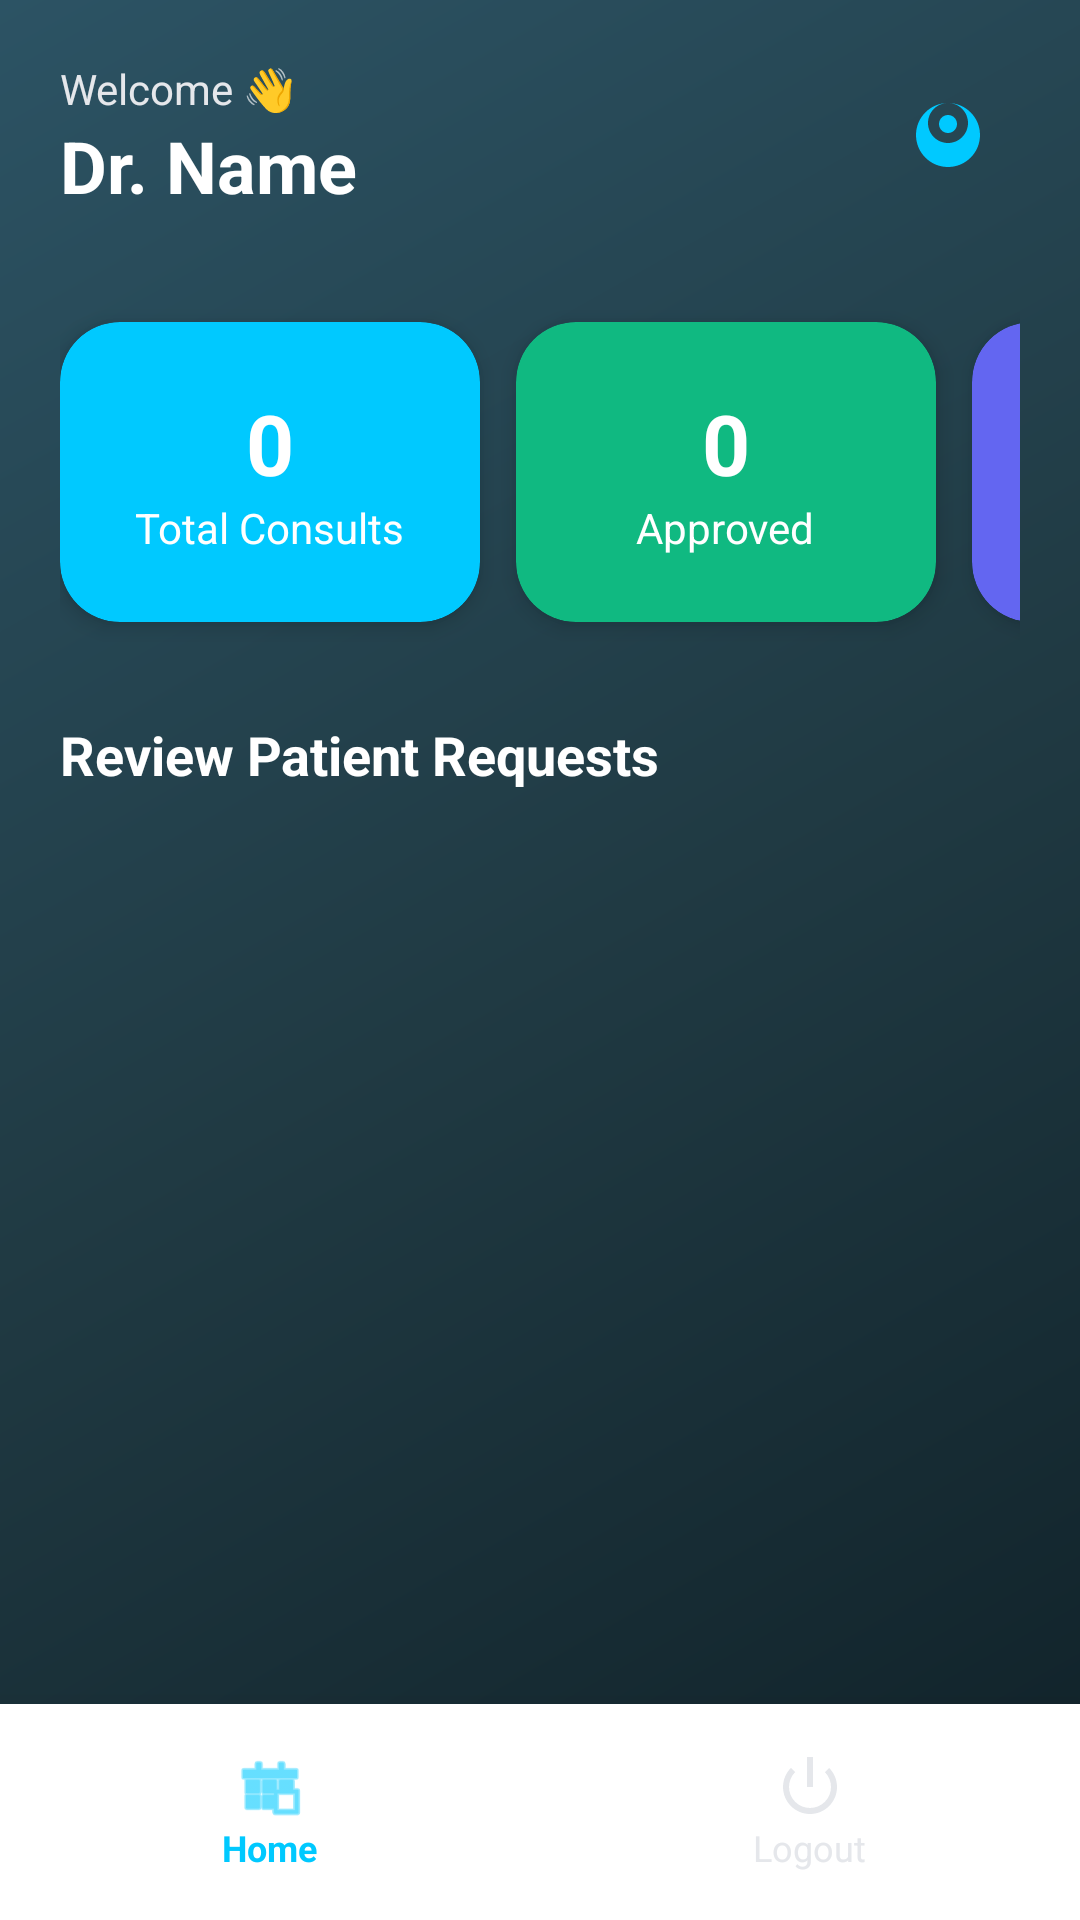

Icon bounding boxes for this 1080x1920 phone screenshot, format box(x1, y1, x2, y2):
lock power off: box(783, 1757, 837, 1814)
person: box(916, 103, 980, 167)
today: box(241, 1761, 300, 1816)
